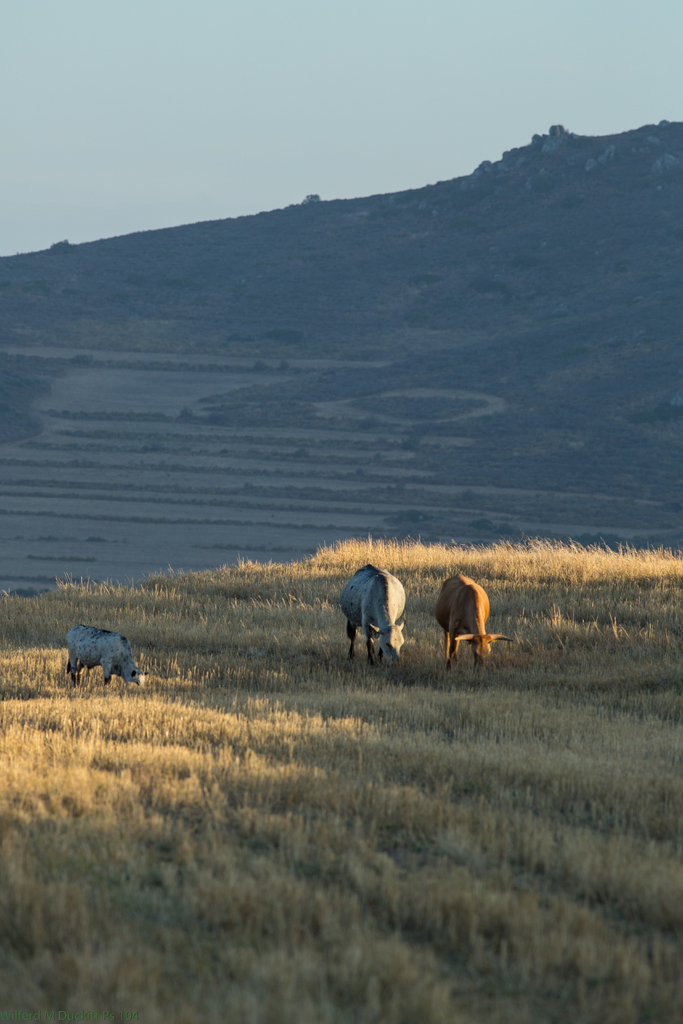Animal: (338, 561, 407, 664), (435, 576, 499, 669), (65, 621, 147, 689)
